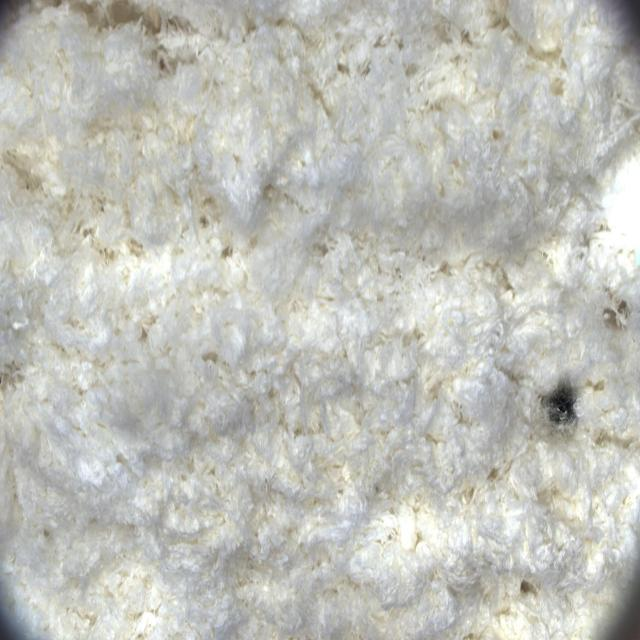dust: (530, 352, 601, 462)
